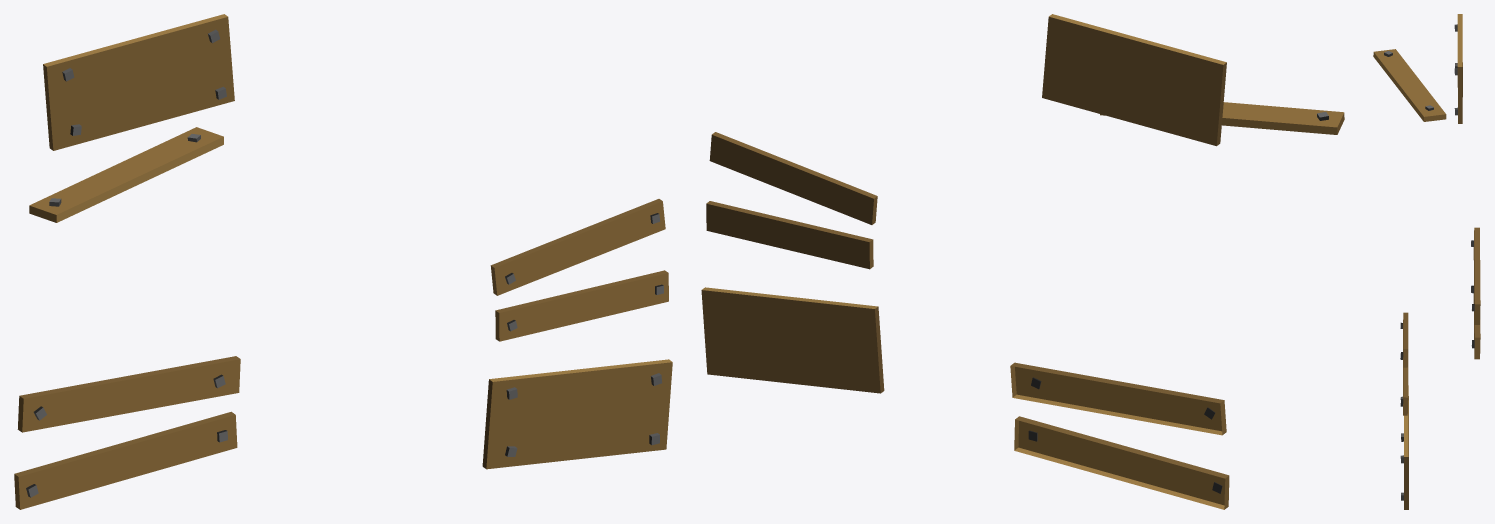
Rendered from SA_Bld_TownHouse_Defence_01.gltf.
3 views of the same model, side by side, from view 1: azimuth 30°, elevation 25°; view 2: azimuth 150°, elevation 25°; view 3: azimuth 270°, elevation 25° (orthographic). The views are drawn at different scales.
Parts seen in each view (by area): view 1: SA_Bld_TownHouse_Defence_01; view 2: SA_Bld_TownHouse_Defence_01; view 3: SA_Bld_TownHouse_Defence_01.
Part boxes in pixels (x1,y1,x2,y2): SA_Bld_TownHouse_Defence_01: (14,14,672,509); SA_Bld_TownHouse_Defence_01: (701,14,1344,509); SA_Bld_TownHouse_Defence_01: (1373,14,1480,509).
Size of the model in its own units: 7.37 by 5.41 by 1.64.
1 material, 1 textured.
